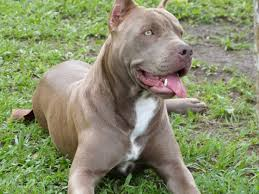Perro Pitbull: (85, 1, 204, 147)
